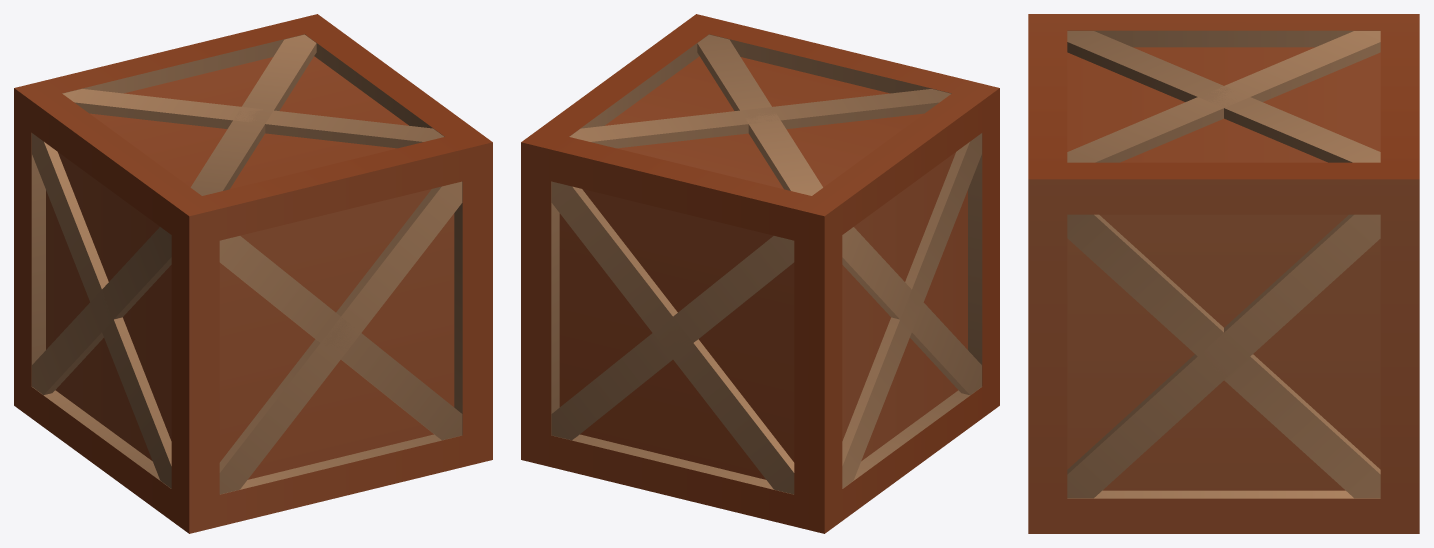
File: Crate1.fbx
3 renders of one model, left to right at view 1: azimuth 30°, elevation 25°; view 2: azimuth 150°, elevation 25°; view 3: azimuth 270°, elevation 25°, orthographic. The views are drawn at different scales.
Visible parts, largest first — view 1: Crate; view 2: Crate; view 3: Crate.
Part boxes in pixels (x1=…): Crate: x1=14, y1=14, x2=492, y2=533; Crate: x1=521, y1=14, x2=999, y2=533; Crate: x1=1028, y1=14, x2=1419, y2=533.
Bounding box in the file's own units: 80 × 80 × 80.
Materials: 1 (1 with a texture image).
